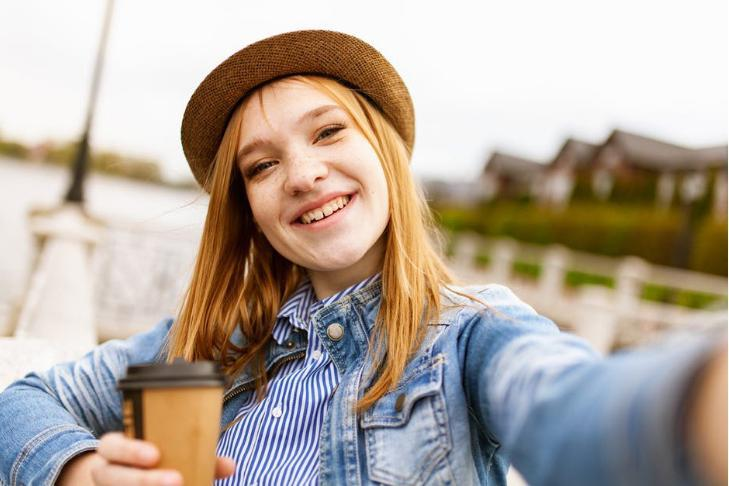face: (238, 83, 387, 267)
